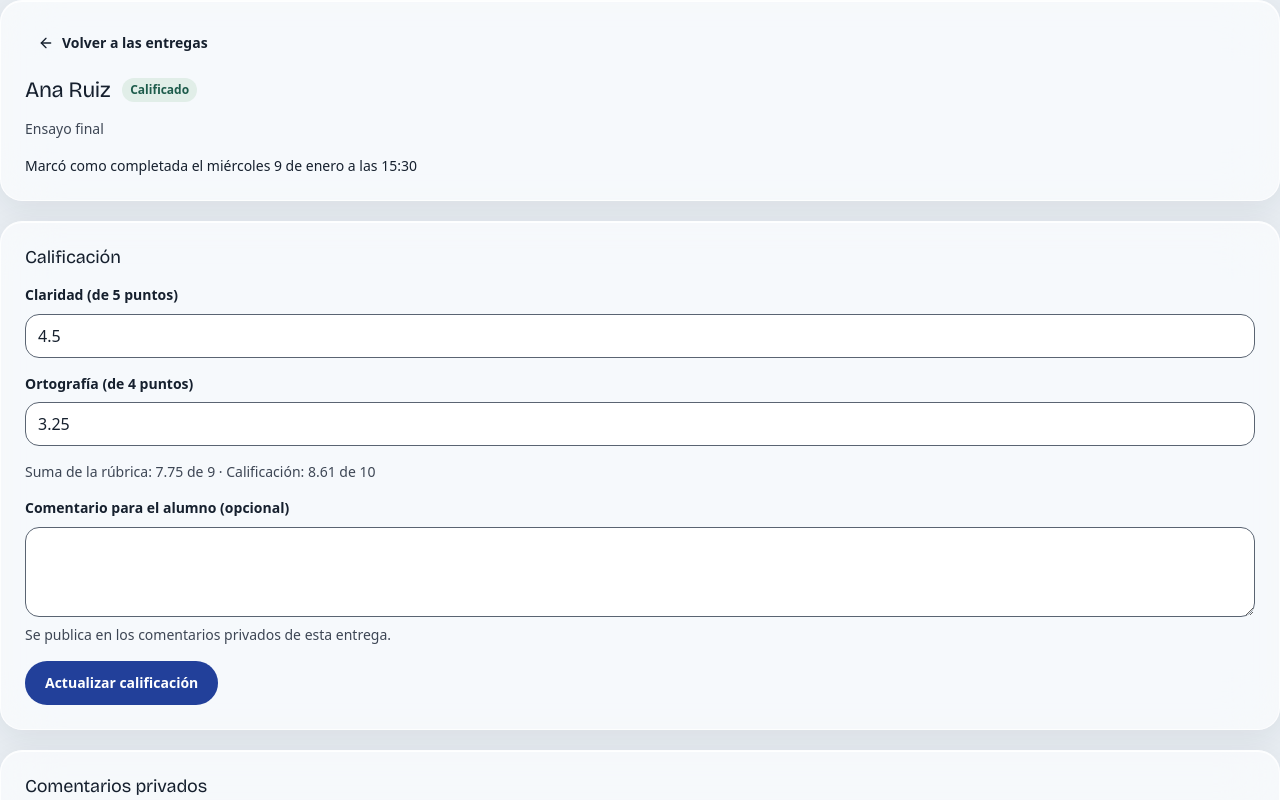
Test: ataque 01c r1 · recargas de fondo con el formulario a la vista › CAL-T-81: con una calificada a la vista, otra persona recalifica (versión 3 → 4, otros puntos): lo escrito y lo guardado de apertura siguen, el botón sigue dici
The width and height of the screenshot is (1280, 800).
expect the field labelled "Ortografía (de 4 puntos)" holds "3.25": met, box top-left (25, 402), bottom-right (1255, 446)
Replace the text in the field labelled "Claridad (de 5 puntos)" with "5": [640, 336] box top-left (25, 314), bottom-right (1255, 358)
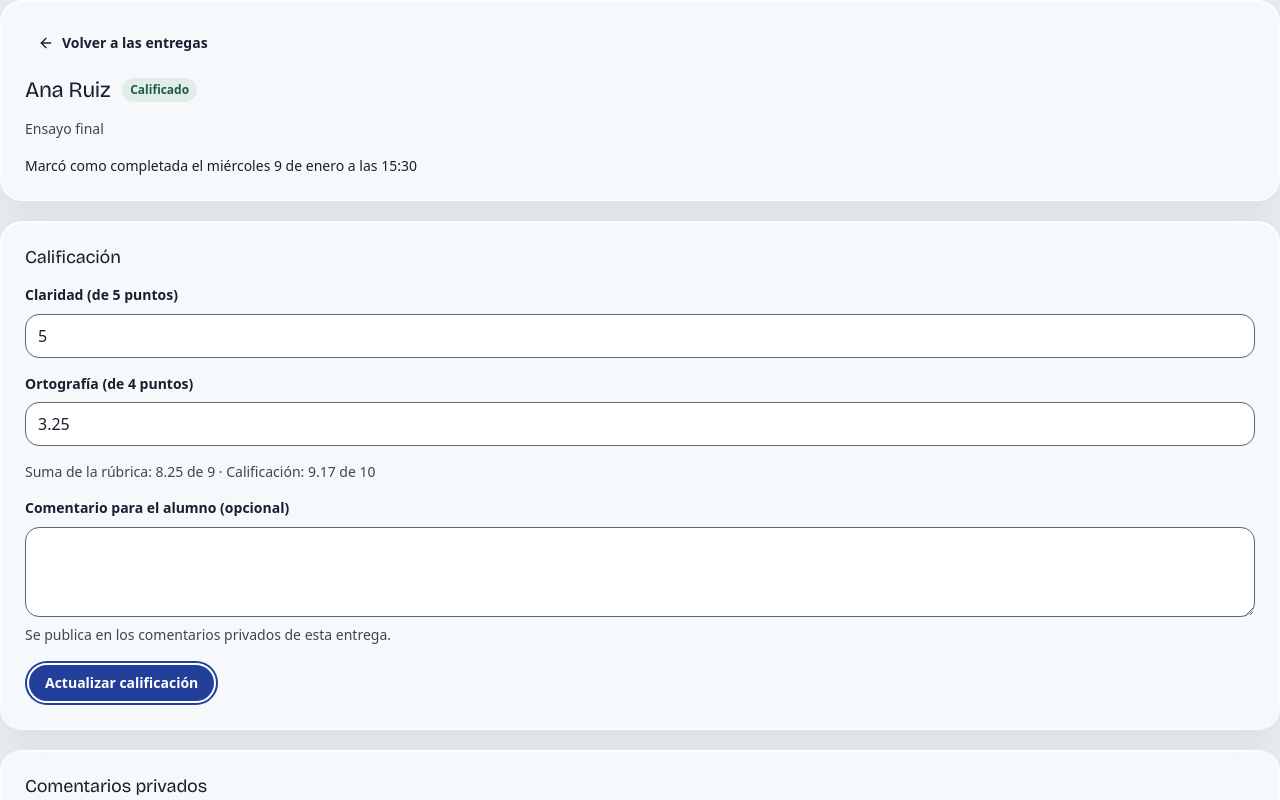
expect the field labelled "Ortografía (de 4 puntos)" holds "3.25": met, box top-left (25, 402), bottom-right (1255, 446)
Click the button "Actualizar calificación": [122, 683] box top-left (25, 661), bottom-right (218, 705)
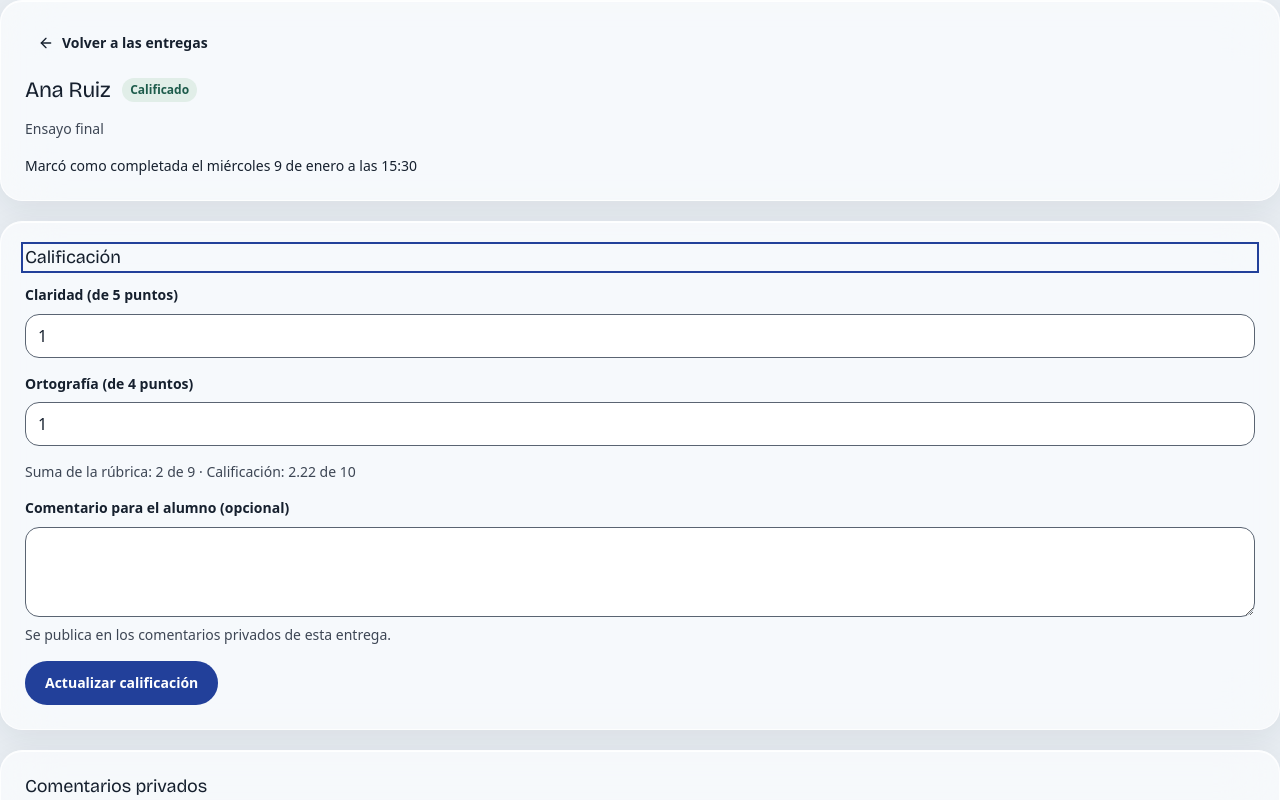
expect the field labelled "Ortografía (de 4 puntos)" holds "1": met, box top-left (25, 402), bottom-right (1255, 446)
